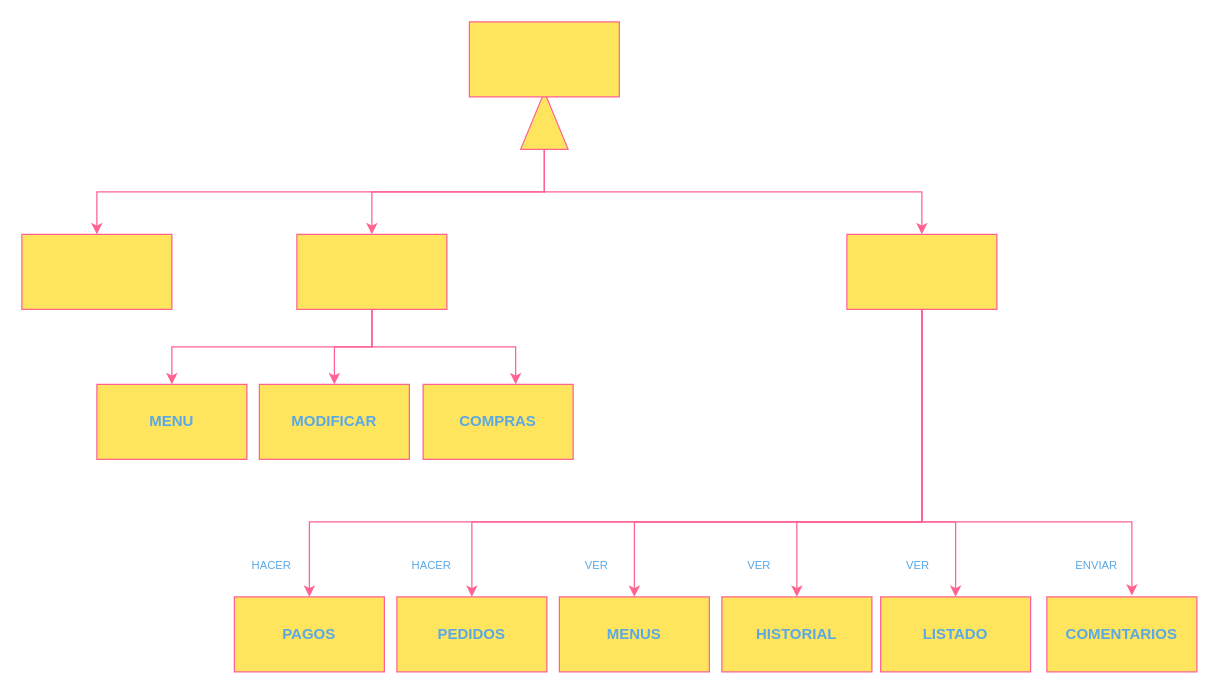
The diagram is 1219 pixels wide and 694 high, and some of its shapes have lost their labels. The box of each missing label's shape, as (x1, y1, x2, y2) in pixels:
ACTORES: (468, 21, 619, 97)
ADMINISTRADOR: (21, 233, 172, 309)
COMEDOR: (296, 233, 447, 309)
USUARIO: (846, 233, 997, 309)
